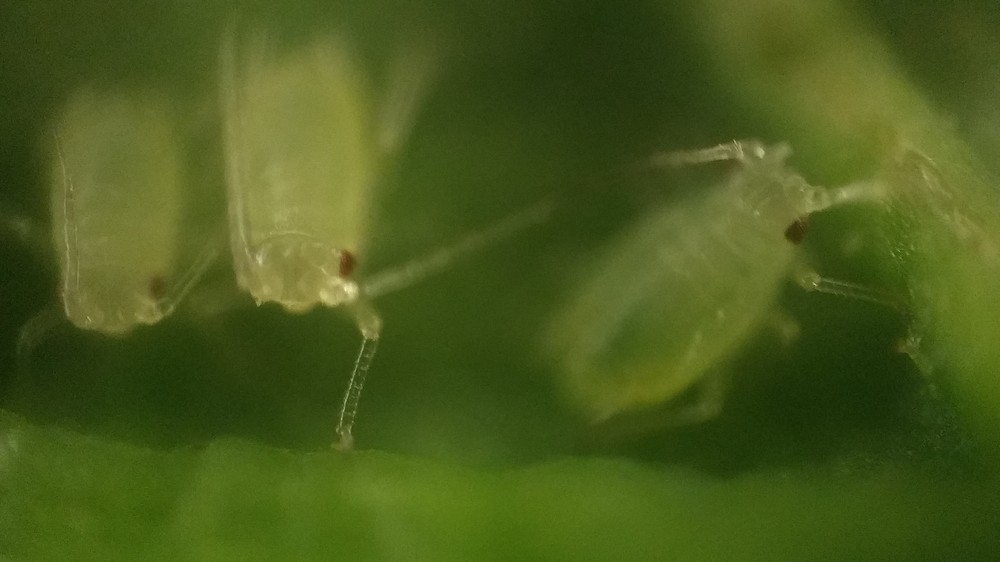Pulgon: (521, 119, 926, 448), (201, 23, 460, 454), (3, 71, 236, 410)
